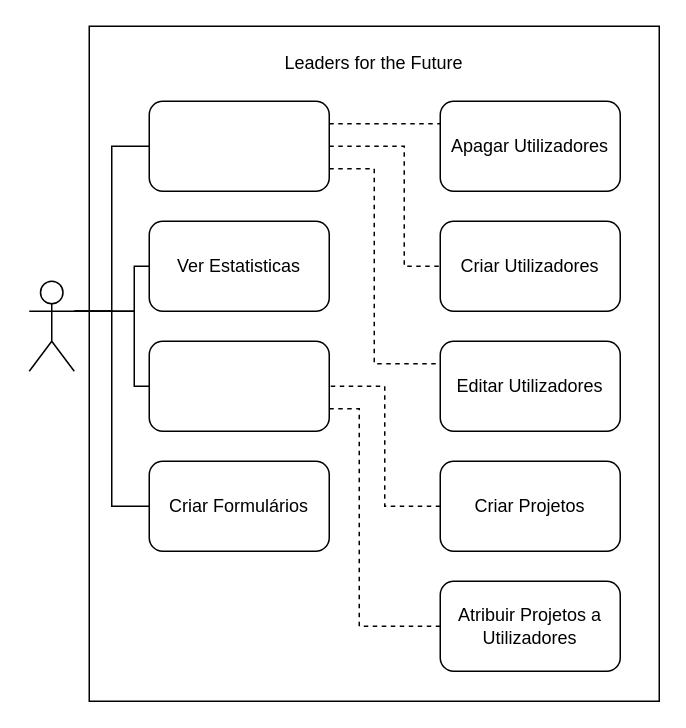
This 686x728 diagram has some shape labels left out. Each missing label, with the box of its shape:
Admin: (28, 280, 74, 371)
Gerir Projetos: (148, 340, 329, 431)
Gerir Utilizadores: (148, 100, 329, 191)
